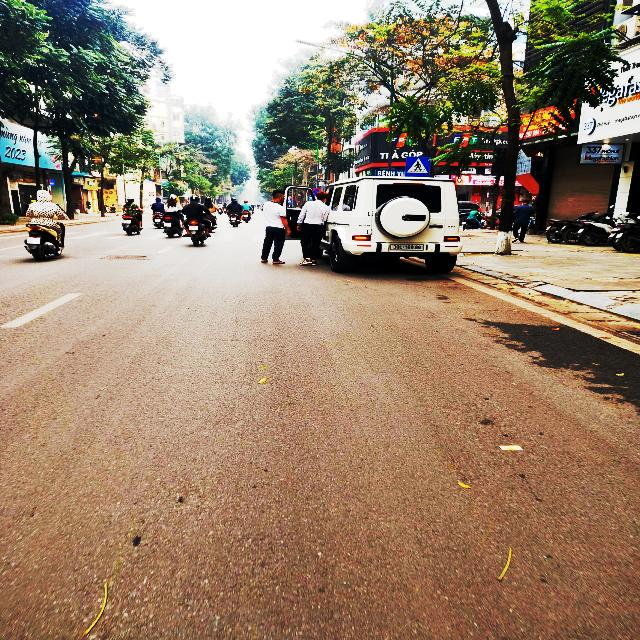license_plate: (392, 245, 425, 251)
